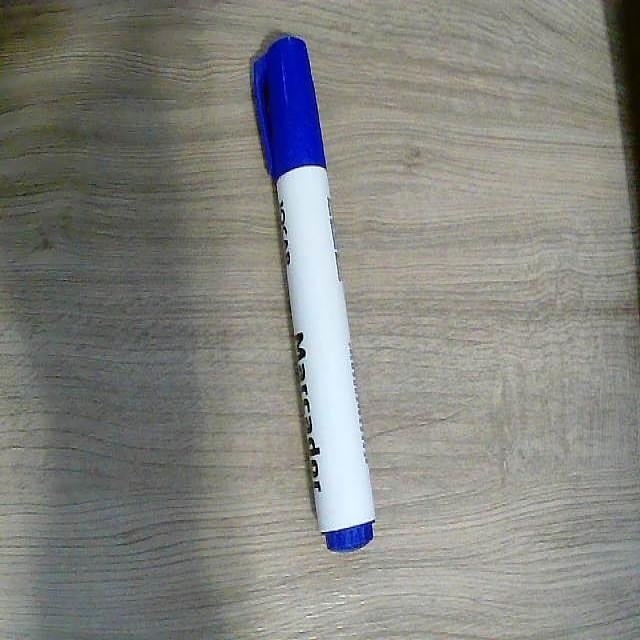caneta: (242, 28, 390, 558)
